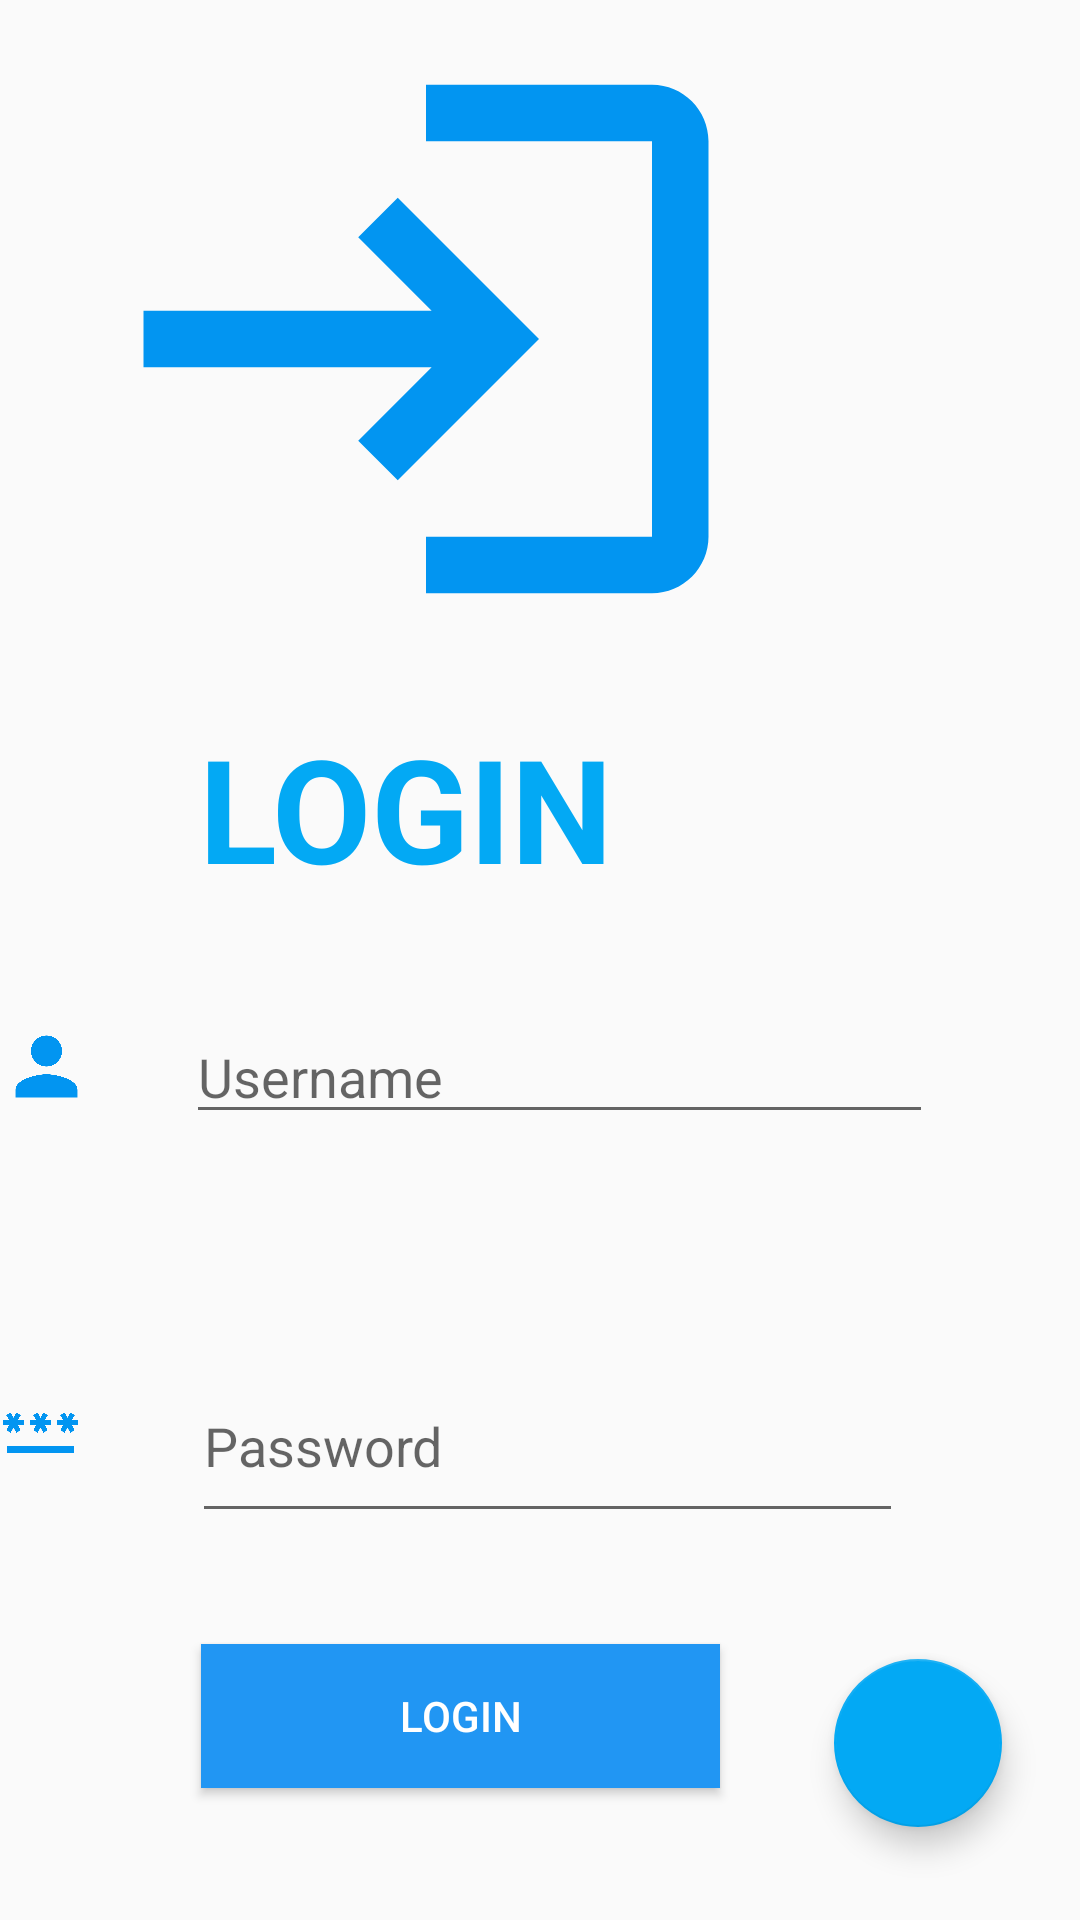

Icons on this 1080px×1920px Android screen, each with the point to tap as point (x, y):
person: point (46, 1066)
